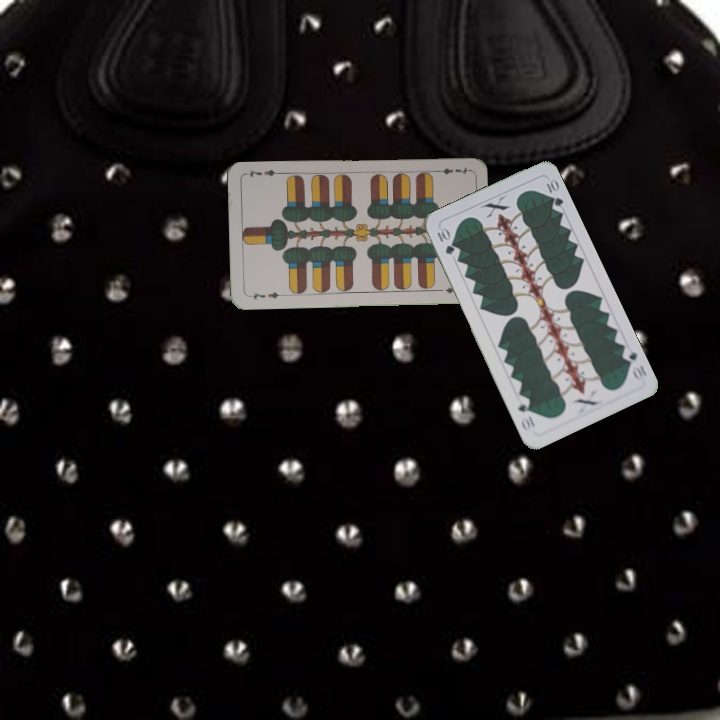E7: (430, 163, 471, 177), (245, 288, 285, 302)
G10: (618, 343, 649, 383), (433, 224, 457, 257)
